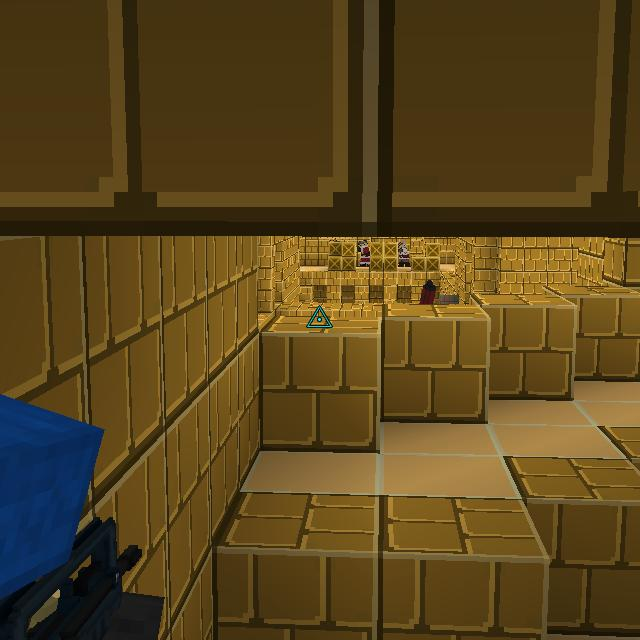enemy: (397, 241, 411, 267), (357, 239, 370, 266)
